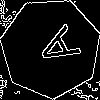A: (26, 23, 82, 75)
